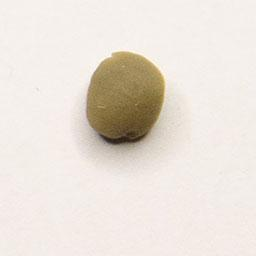peaberry: (82, 47, 170, 147)
